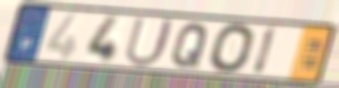4: (84, 14, 123, 66), (43, 11, 81, 63)
I: (251, 24, 281, 77)
O: (207, 22, 258, 75)
Q: (170, 22, 212, 70)
U: (122, 15, 178, 69)
